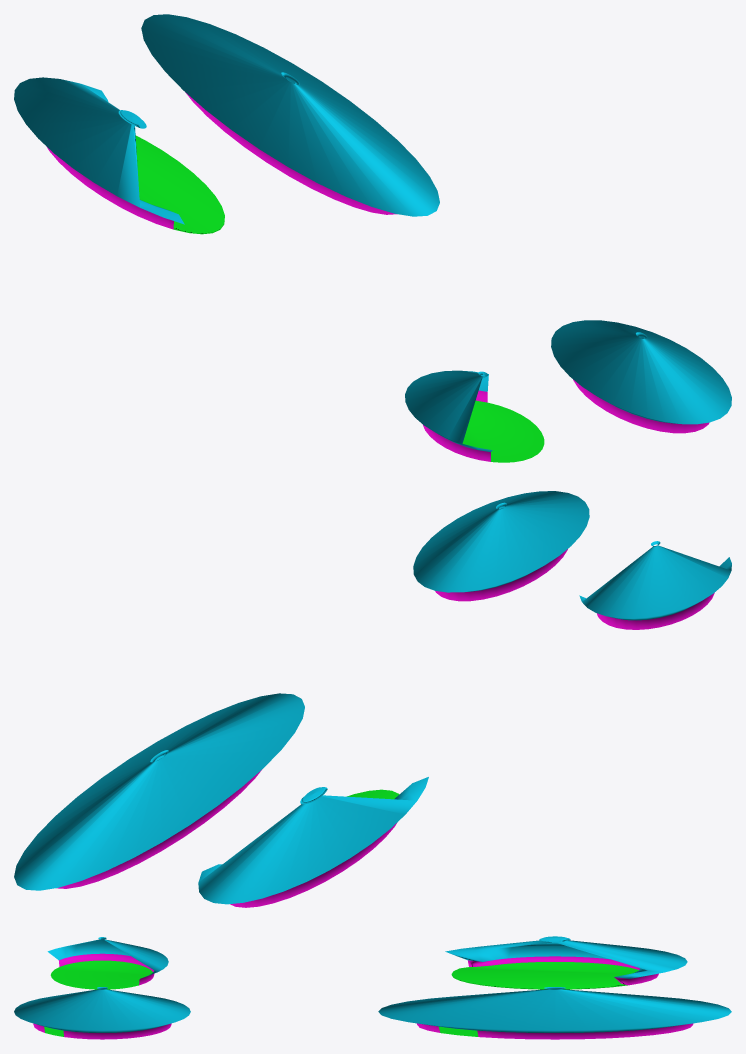
File: chozaA.fbx
3 renders of one model, top to bottom at view 1: azimuth 30°, elevation 25°; view 2: azimuth 150°, elevation 25°; view 3: azimuth 270°, elevation 25°, orthographic. The views are drawn at different scales.
Visible parts, largest first — view 1: Cylinder, Cylinder.001, Cylinder.003, Cylinder.002; view 2: Cylinder, Cylinder.001, Cylinder.003, Cylinder.002; view 3: Cylinder, Cylinder.001, Cylinder.003, Cylinder.002.
Part boxes in pixels (<box>): Cylinder: <box>141,14,439,216</box>; Cylinder.001: <box>14,77,224,234</box>; Cylinder.003: <box>551,320,731,433</box>; Cylinder.002: <box>405,370,544,462</box>; Cylinder: <box>14,693,304,890</box>; Cylinder.001: <box>198,777,428,907</box>; Cylinder.003: <box>413,491,589,601</box>; Cylinder.002: <box>579,541,731,629</box>; Cylinder: <box>378,987,731,1039</box>; Cylinder.001: <box>445,936,687,989</box>; Cylinder.003: <box>14,987,190,1039</box>; Cylinder.002: <box>47,937,168,989</box>.
Bounding box in the file's own units: 1304 × 259 × 4540.
